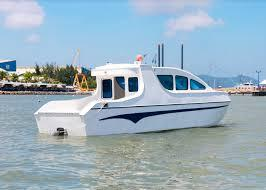Ship: (35, 65, 232, 137)
